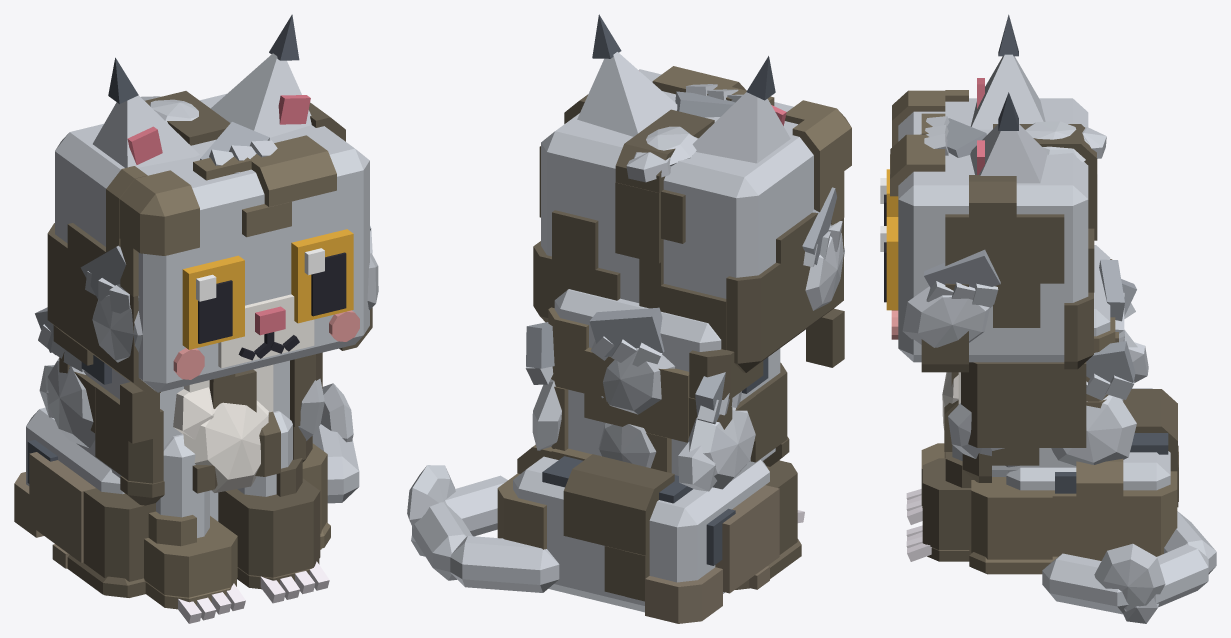
The model's file is CleanACat_Cat_Marble_Dirty_Sit.fbx.
3 renders of one model, left to right at view 1: azimuth 30°, elevation 25°; view 2: azimuth 150°, elevation 25°; view 3: azimuth 270°, elevation 25°, orthographic. The views are drawn at different scales.
Parts seen in each view (by area): view 1: CleanACat_Cat_Marble_Dirty_Sit_Head, CleanACat_Cat_Marble_Dirty_Sit_Mud17, CleanACat_Cat_Marble_Dirty_Sit_Mud01, CleanACat_Cat_Marble_Dirty_Sit_Mud06, CleanACat_Cat_Marble_Dirty_Sit_Mud18, CleanACat_Cat_Marble_Dirty_Sit_Body, CleanACat_Cat_Marble_Dirty_Sit_Mud16, CleanACat_Cat_Marble_Dirty_Sit_Mud03, CleanACat_Cat_Marble_Dirty_Sit_Fluff04, CleanACat_Cat_Marble_Dirty_Sit_EarL, CleanACat_Cat_Marble_Dirty_Sit_Mud14, CleanACat_Cat_Marble_Dirty_Sit_EarR (+23 smaller); view 2: CleanACat_Cat_Marble_Dirty_Sit_Head, CleanACat_Cat_Marble_Dirty_Sit_Body, CleanACat_Cat_Marble_Dirty_Sit_Mud01, CleanACat_Cat_Marble_Dirty_Sit_Mud13, CleanACat_Cat_Marble_Dirty_Sit_Tail, CleanACat_Cat_Marble_Dirty_Sit_Mud09, CleanACat_Cat_Marble_Dirty_Sit_Mud14, CleanACat_Cat_Marble_Dirty_Sit_Mud04, CleanACat_Cat_Marble_Dirty_Sit_Mud05, CleanACat_Cat_Marble_Dirty_Sit_EarL, CleanACat_Cat_Marble_Dirty_Sit_EarR, CleanACat_Cat_Marble_Dirty_Sit_Fluff06 (+17 smaller); view 3: CleanACat_Cat_Marble_Dirty_Sit_Head, CleanACat_Cat_Marble_Dirty_Sit_Mud02, CleanACat_Cat_Marble_Dirty_Sit_Mud08, CleanACat_Cat_Marble_Dirty_Sit_Mud12, CleanACat_Cat_Marble_Dirty_Sit_Mud15, CleanACat_Cat_Marble_Dirty_Sit_Tail, CleanACat_Cat_Marble_Dirty_Sit_Body, CleanACat_Cat_Marble_Dirty_Sit_Mud17, CleanACat_Cat_Marble_Dirty_Sit_EarL, CleanACat_Cat_Marble_Dirty_Sit_EarR, CleanACat_Cat_Marble_Dirty_Sit_Fluff01, CleanACat_Cat_Marble_Dirty_Sit_Fluff09 (+18 smaller).
Part boxes in pixels (x1=…): CleanACat_Cat_Marble_Dirty_Sit_Head: x1=55, y1=93, x2=369, y2=392; CleanACat_Cat_Marble_Dirty_Sit_Mud17: x1=218, y1=458, x2=320, y2=589; CleanACat_Cat_Marble_Dirty_Sit_Mud01: x1=47, y1=223, x2=160, y2=443; CleanACat_Cat_Marble_Dirty_Sit_Mud06: x1=106, y1=166, x2=199, y2=296; CleanACat_Cat_Marble_Dirty_Sit_Mud18: x1=144, y1=511, x2=237, y2=609; CleanACat_Cat_Marble_Dirty_Sit_Body: x1=26, y1=355, x2=289, y2=521; CleanACat_Cat_Marble_Dirty_Sit_Mud16: x1=67, y1=488, x2=155, y2=597; CleanACat_Cat_Marble_Dirty_Sit_Mud03: x1=193, y1=135, x2=336, y2=237; CleanACat_Cat_Marble_Dirty_Sit_Fluff04: x1=173, y1=387, x2=268, y2=492; CleanACat_Cat_Marble_Dirty_Sit_EarL: x1=211, y1=14, x2=311, y2=137; CleanACat_Cat_Marble_Dirty_Sit_Mud14: x1=14, y1=452, x2=95, y2=568; CleanACat_Cat_Marble_Dirty_Sit_EarR: x1=93, y1=57, x2=199, y2=167; CleanACat_Cat_Marble_Dirty_Sit_Head: x1=541, y1=69, x2=813, y2=302; CleanACat_Cat_Marble_Dirty_Sit_Body: x1=513, y1=289, x2=780, y2=612; CleanACat_Cat_Marble_Dirty_Sit_Mud01: x1=660, y1=212, x2=844, y2=372; CleanACat_Cat_Marble_Dirty_Sit_Mud13: x1=563, y1=454, x2=674, y2=601; CleanACat_Cat_Marble_Dirty_Sit_Tail: x1=412, y1=475, x2=559, y2=592; CleanACat_Cat_Marble_Dirty_Sit_Mud09: x1=548, y1=307, x2=689, y2=473; CleanACat_Cat_Marble_Dirty_Sit_Mud14: x1=645, y1=485, x2=779, y2=623; CleanACat_Cat_Marble_Dirty_Sit_Mud04: x1=615, y1=109, x2=714, y2=310; CleanACat_Cat_Marble_Dirty_Sit_Mud05: x1=533, y1=210, x2=620, y2=322; CleanACat_Cat_Marble_Dirty_Sit_EarL: x1=577, y1=14, x2=677, y2=136; CleanACat_Cat_Marble_Dirty_Sit_EarR: x1=692, y1=56, x2=790, y2=163; CleanACat_Cat_Marble_Dirty_Sit_Fluff06: x1=678, y1=407, x2=755, y2=491; CleanACat_Cat_Marble_Dirty_Sit_Head: x1=891, y1=98, x2=1088, y2=362; CleanACat_Cat_Marble_Dirty_Sit_Mud02: x1=921, y1=175, x2=1064, y2=372; CleanACat_Cat_Marble_Dirty_Sit_Mud08: x1=961, y1=362, x2=1086, y2=482; CleanACat_Cat_Marble_Dirty_Sit_Mud12: x1=1052, y1=458, x2=1177, y2=560; CleanACat_Cat_Marble_Dirty_Sit_Mud15: x1=969, y1=477, x2=1058, y2=574; CleanACat_Cat_Marble_Dirty_Sit_Tail: x1=1042, y1=511, x2=1216, y2=614; CleanACat_Cat_Marble_Dirty_Sit_Body: x1=958, y1=245, x2=1170, y2=493; CleanACat_Cat_Marble_Dirty_Sit_Mud17: x1=922, y1=452, x2=973, y2=561; CleanACat_Cat_Marble_Dirty_Sit_EarL: x1=970, y1=92, x2=1047, y2=183; CleanACat_Cat_Marble_Dirty_Sit_EarR: x1=970, y1=14, x2=1045, y2=129; CleanACat_Cat_Marble_Dirty_Sit_Fluff01: x1=902, y1=286, x2=991, y2=347; CleanACat_Cat_Marble_Dirty_Sit_Fluff09: x1=1094, y1=543, x2=1165, y2=623.
Bounding box in the file's own units: 1.3 × 1.97 × 1.24.
Materials: 1 (1 with a texture image).
